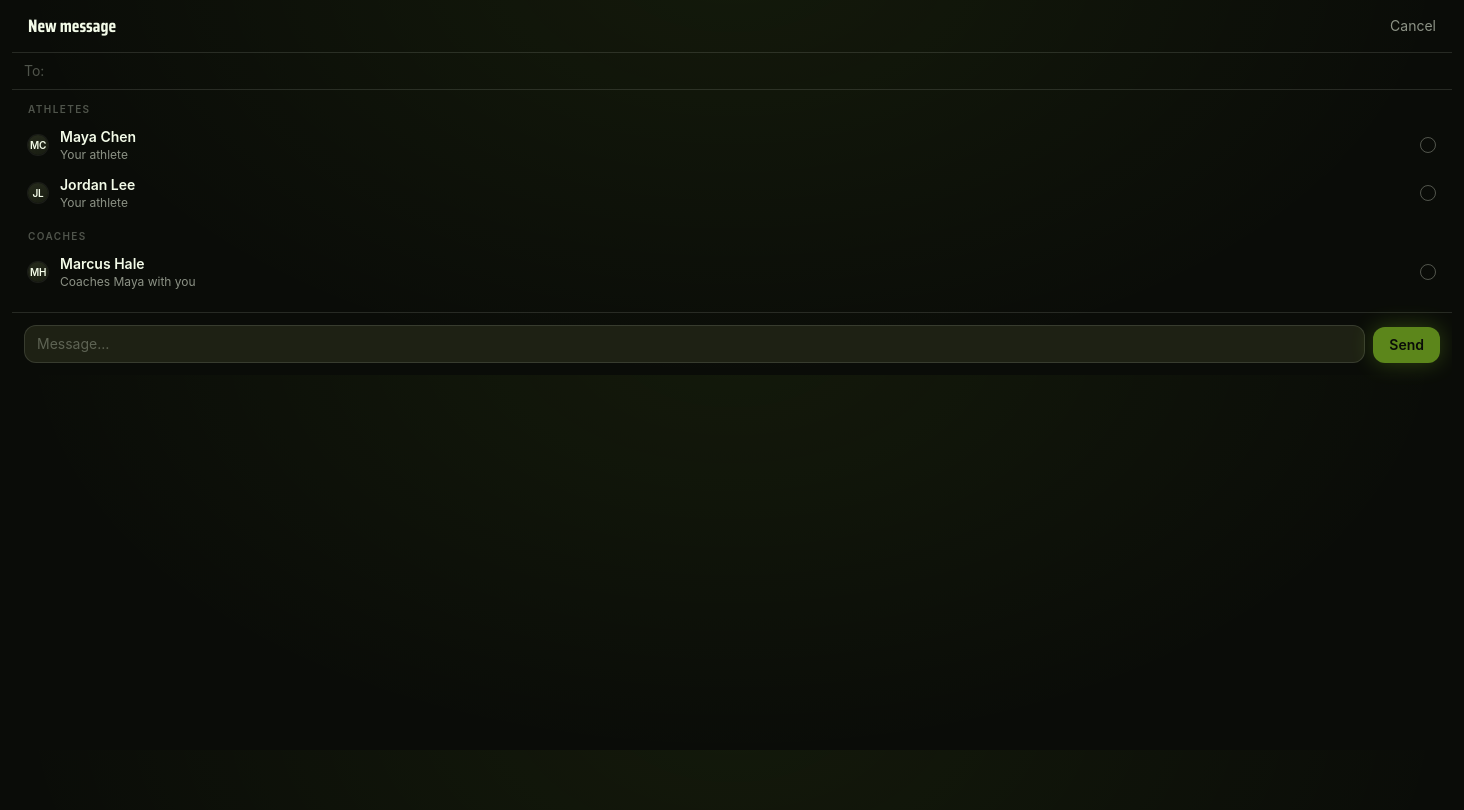
Test: picking two athletes shows the note and a group name field
The width and height of the screenshot is (1464, 810).
Click the button "MC Maya Chen Your athlete" at (98, 136), box [20,121,1444,169]
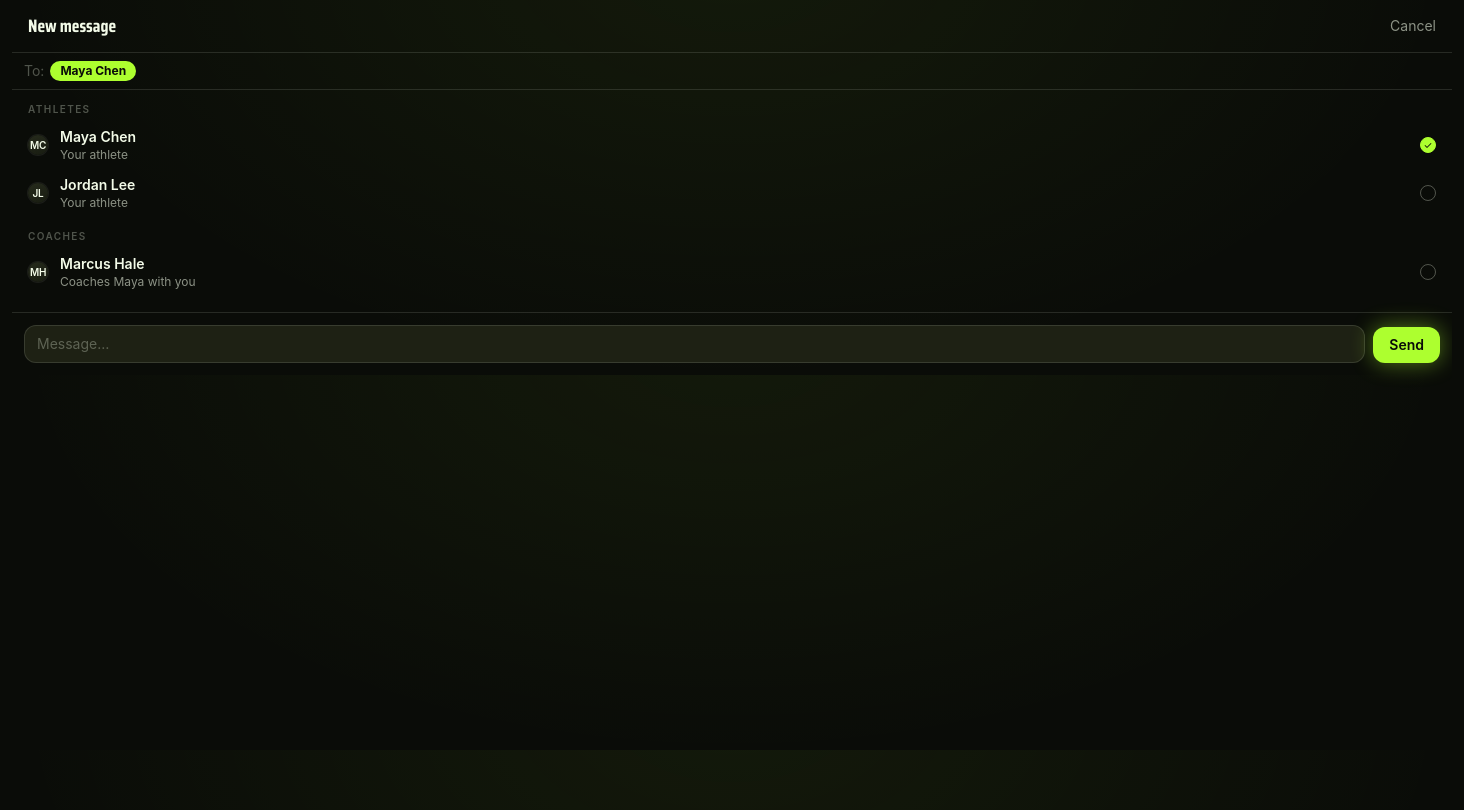
Expected: the text "see each other's names" is not shown
Click the button "JL Jordan Lee Your athlete" at (98, 184), box [20,169,1444,217]
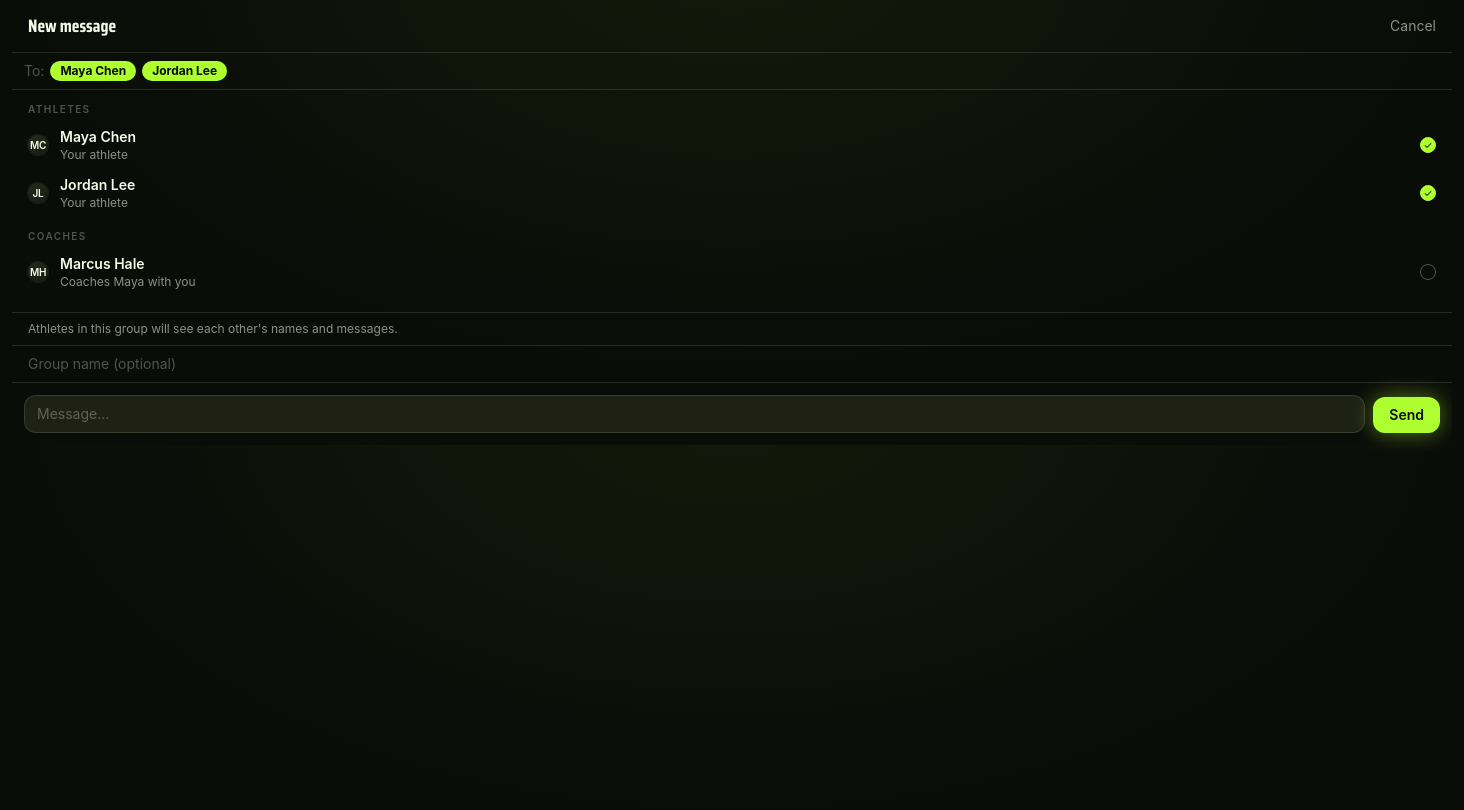
Expected: the text "Athletes in this group will see each other's names and messages." is shown, [12,312,1452,345]
Expected: the field labelled "Group name" is shown, [12,345,1452,382]
